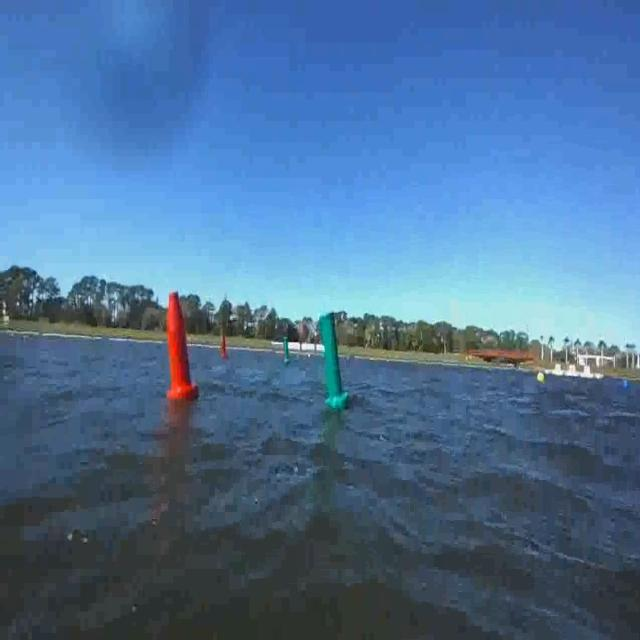blue-buoy: (620, 377, 631, 393)
green-column-buoy: (318, 310, 348, 407), (283, 337, 291, 364)
red-column-buoy: (165, 289, 199, 401), (220, 335, 228, 361)
yellow-buoy: (536, 372, 546, 386)
